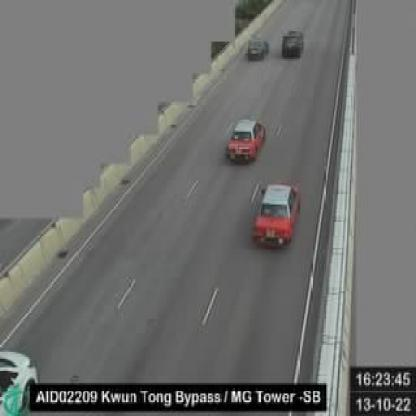Car: (251, 180, 302, 251), (0, 344, 44, 412), (226, 118, 266, 166), (283, 28, 305, 57), (246, 36, 269, 60)
